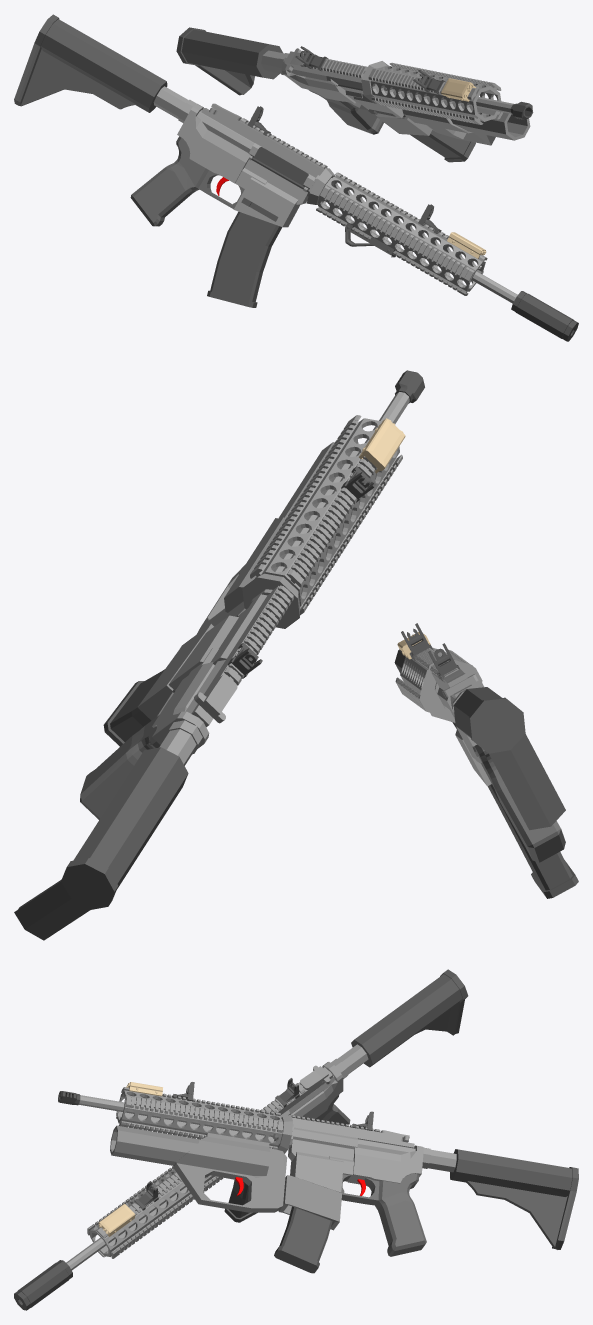
Rendered from M4_Project.fbx.
The picture shows the model from 3 angles, top to bottom: view 1: azimuth 30°, elevation 25°; view 2: azimuth 150°, elevation 25°; view 3: azimuth 270°, elevation 25°; orthographic projection. The views are drawn at different scales.
Visible parts, largest first — view 1: Stock.001, Rail.001, LowerReceiver.001, Rail, Magazine.001, Stock, M4_Stealth, Upper Receiver.001, UGL, LowerReceiver, BasicSuppressor.001, Upper Receiver (+8 smaller); view 2: Rail, Stock, Stock.001, LowerReceiver, Upper Receiver, UGL, M4_Grenadier, Rail.001, M4_Stealth, Magazine.001, Magazine, Laser (+2 smaller); view 3: UGL, Stock, Rail, LowerReceiver, Stock.001, M4_Grenadier, Rail.001, Upper Receiver, Magazine, LowerReceiver.001, BasicSuppressor.001, Upper Receiver.001 (+4 smaller).
Boxes of the visible parts, left/top/right/bottom form: Stock.001: left=14, top=14, right=167, bottom=112; Rail.001: left=306, top=168, right=487, bottom=295; LowerReceiver.001: left=153, top=86, right=308, bottom=227; Rail: left=361, top=61, right=502, bottom=124; Magazine.001: left=207, top=211, right=281, bottom=307; Stock: left=176, top=27, right=282, bottom=95; M4_Stealth: left=130, top=136, right=244, bottom=226; Upper Receiver.001: left=197, top=103, right=327, bottom=196; UGL: left=377, top=109, right=530, bottom=145; LowerReceiver: left=261, top=50, right=403, bottom=118; BasicSuppressor.001: left=511, top=291, right=578, bottom=341; Upper Receiver: left=284, top=51, right=367, bottom=86; Rail: left=242, top=415, right=402, bottom=628; Stock: left=14, top=747, right=188, bottom=940; Stock.001: left=453, top=687, right=565, bottom=830; LowerReceiver: left=152, top=608, right=247, bottom=765; Upper Receiver: left=185, top=585, right=293, bottom=727; UGL: left=137, top=442, right=334, bottom=720; M4_Grenadier: left=80, top=686, right=178, bottom=819; Rail.001: left=395, top=647, right=484, bottom=722; M4_Stealth: left=474, top=744, right=565, bottom=862; Magazine.001: left=488, top=784, right=578, bottom=898; Magazine: left=103, top=669, right=164, bottom=746; Laser: left=359, top=418, right=405, bottom=473; UGL: left=110, top=1125, right=342, bottom=1230; Stock: left=450, top=1149, right=578, bottom=1249; Rail: left=116, top=1087, right=292, bottom=1153; LowerReceiver: left=288, top=1139, right=456, bottom=1192; Stock.001: left=351, top=969, right=468, bottom=1067; M4_Grenadier: left=341, top=1173, right=426, bottom=1256; Rail.001: left=87, top=1166, right=223, bottom=1258; Upper Receiver: left=288, top=1115, right=415, bottom=1154; Magazine: left=274, top=1206, right=332, bottom=1273; LowerReceiver.001: left=291, top=1044, right=368, bottom=1119; BasicSuppressor.001: left=14, top=1260, right=72, bottom=1310; Upper Receiver.001: left=259, top=1066, right=334, bottom=1117.
Bounding box in the file's own units: 1197 × 693 × 1672.
